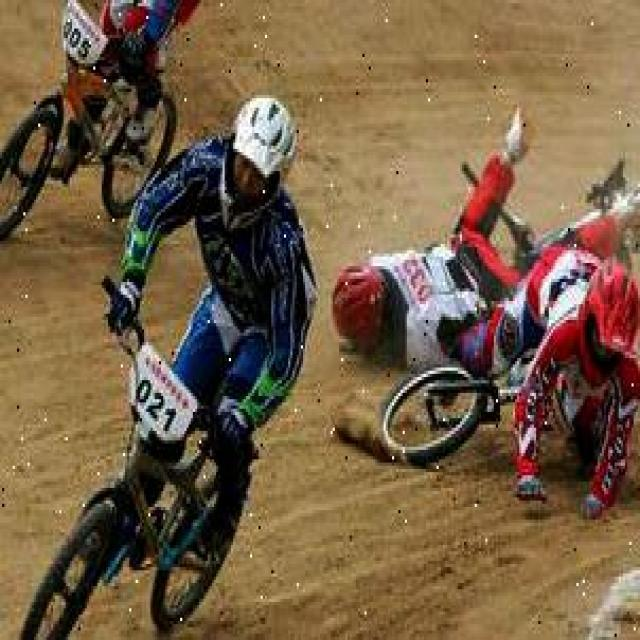fall: (460, 234, 638, 510)
